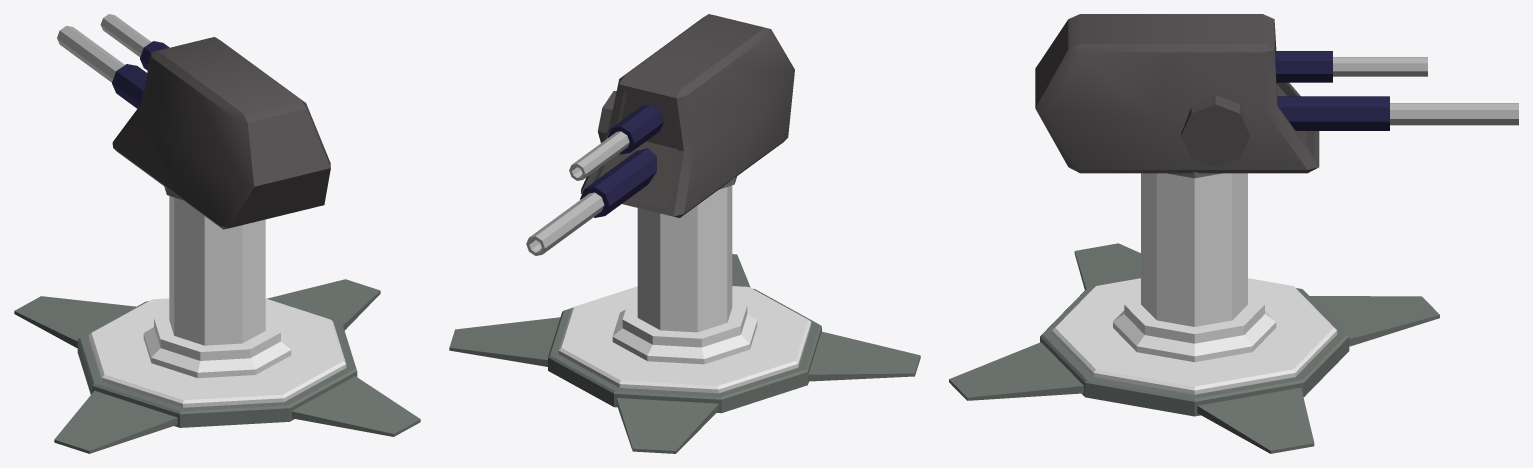
The model's file is turret13.fbx.
3 renders of one model, left to right at view 1: azimuth 30°, elevation 25°; view 2: azimuth 150°, elevation 25°; view 3: azimuth 270°, elevation 25°, orthographic. The views are drawn at different scales.
Visible parts, largest first — view 1: Circle.001, Cube, Circle.003, Circle.005, Circle.002; view 2: Circle.001, Cube, Circle.005, Circle.003, Circle.004, Circle.002; view 3: Circle.001, Cube, Circle.005, Cube.001, Circle.003, Circle.002, Circle.004.
Boxes of the visible parts, <box> form: Circle.001: <box>14,186,420,453</box>; Cube: <box>112,37,330,229</box>; Circle.003: <box>57,25,124,82</box>; Circle.005: <box>112,64,146,108</box>; Circle.002: <box>100,14,151,57</box>; Circle.001: <box>449,176,920,453</box>; Cube: <box>581,14,794,217</box>; Circle.005: <box>580,148,656,217</box>; Circle.003: <box>526,192,604,255</box>; Circle.004: <box>607,104,663,154</box>; Circle.002: <box>569,131,629,180</box>; Circle.001: <box>949,172,1439,453</box>; Cube: <box>1035,14,1319,173</box>; Circle.005: <box>1277,96,1389,130</box>; Cube.001: <box>1181,95,1250,167</box>; Circle.003: <box>1390,103,1518,125</box>; Circle.002: <box>1333,57,1427,76</box>; Circle.004: <box>1275,51,1332,82</box>.
Bounding box in the file's own units: 254 × 295 × 184.
